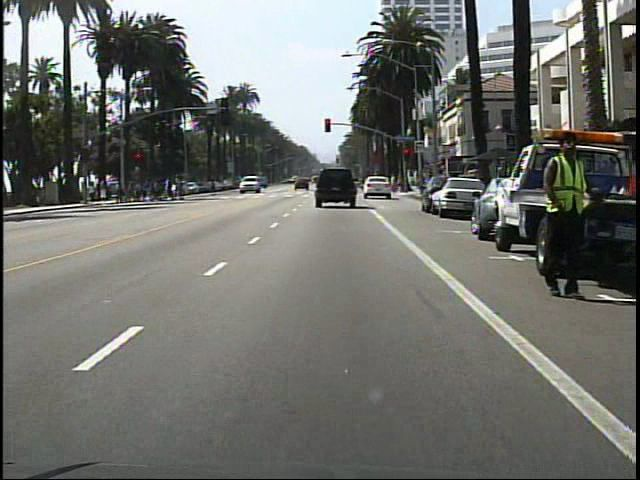person: (531, 115, 607, 315), (204, 172, 223, 201)
